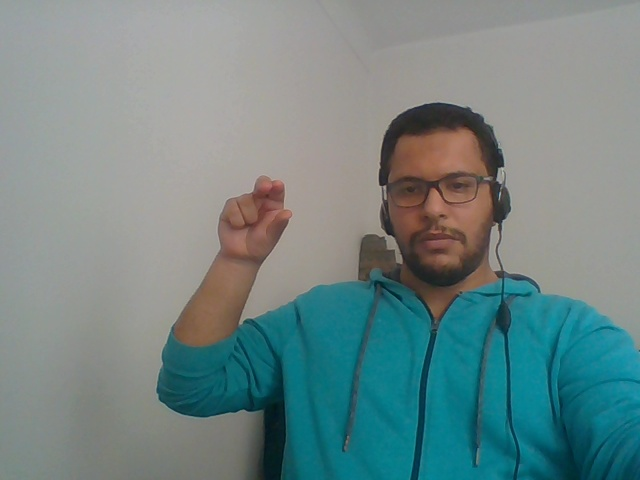no: (190, 150, 315, 290)
